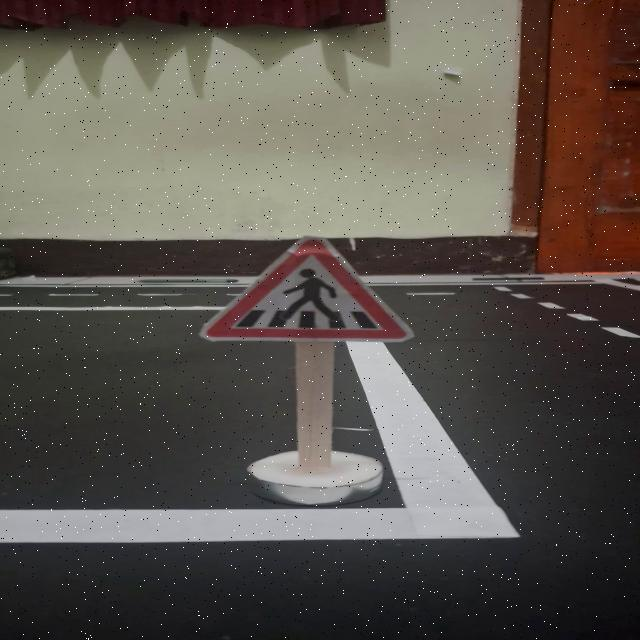Rambu Penyebrangan: (198, 236, 412, 342)
